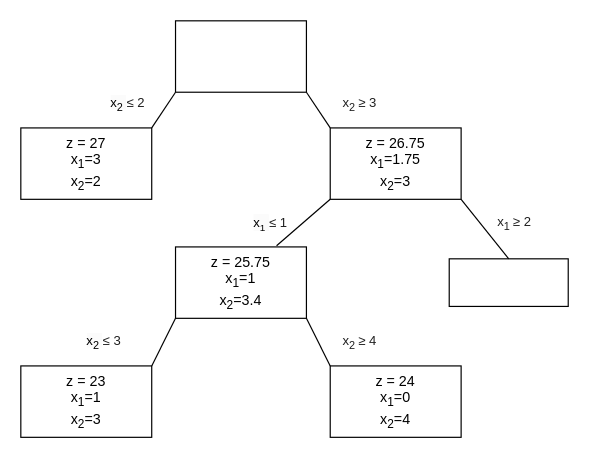
Some shapes in this 589 by 458 pixel diagram are drawn without their labels. Here are the shapes that lost their labels. From the top down, the centre of each, then its label:
(240,56): z = 27.66 x 1 =2.3 x 2 =2.6
(508,282): No Solution
